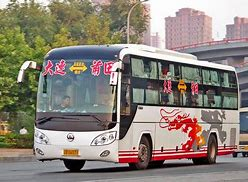bigcar: (18, 35, 241, 170)
